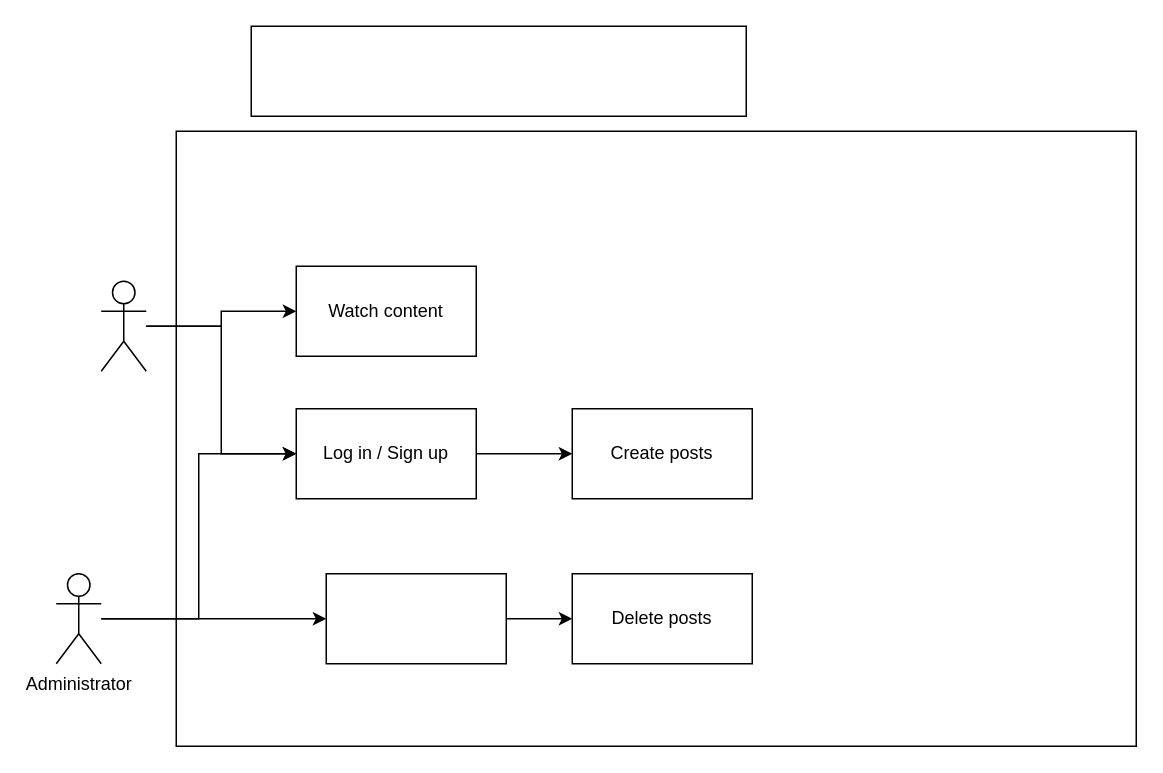
Image size: 1163x773. Some labels were removed from this diagram. The shapes that lost their labels are listed below. From the top down, each one's centre as x and y in pixels, then its label:
(498,70): Новая Жизнь (Сайт поиска потерянных животных)
(123,325): User
(415,618): Administrating
